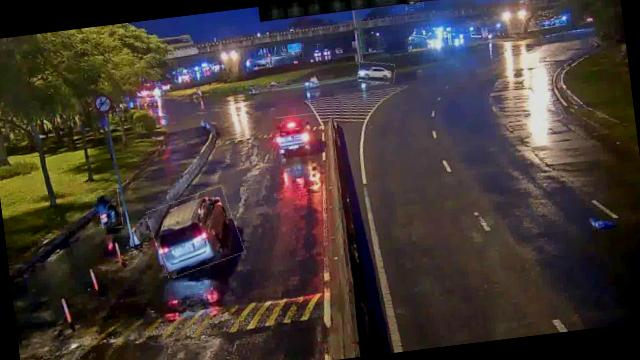Bike: (98, 188, 122, 228)
Car: (146, 188, 242, 276), (274, 112, 318, 156), (357, 60, 396, 86)
